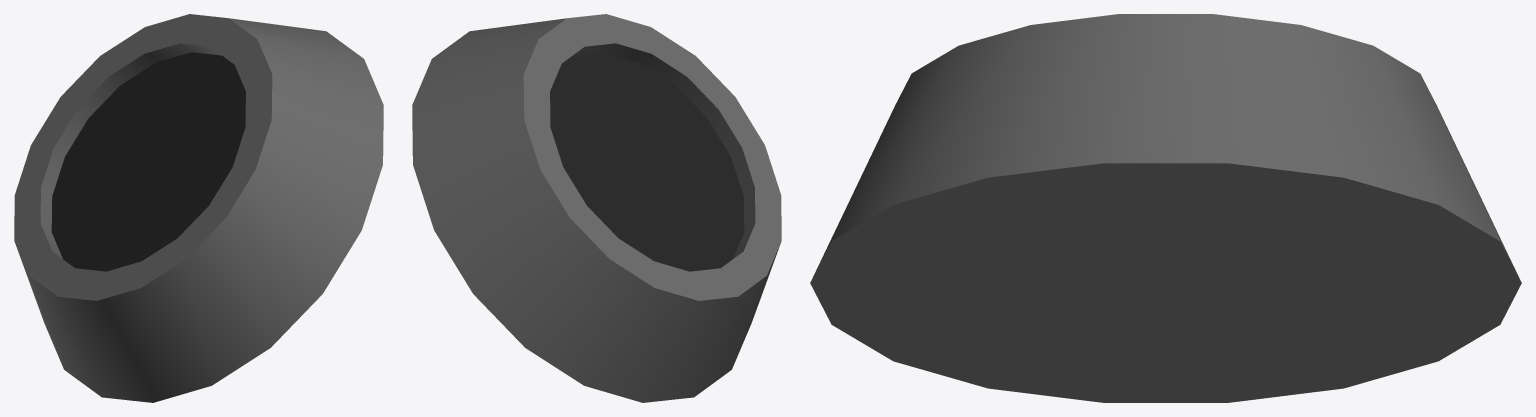
The model's file is Roof_VentL-transformed.glb.
3 views of the same model, side by side, from view 1: azimuth 30°, elevation 25°; view 2: azimuth 150°, elevation 25°; view 3: azimuth 270°, elevation 25° (orthographic). The views are drawn at different scales.
Visible parts, largest first — view 1: Roof_VentL; view 2: Roof_VentL; view 3: Roof_VentL.
Boxes of the visible parts, box(x1,y1,x2,y2) form: Roof_VentL: box(14, 14, 383, 402); Roof_VentL: box(412, 14, 781, 402); Roof_VentL: box(810, 14, 1521, 402).
Bounding box in the file's own units: 1.15 × 1.15 × 1.43.
1 material, 1 textured.
